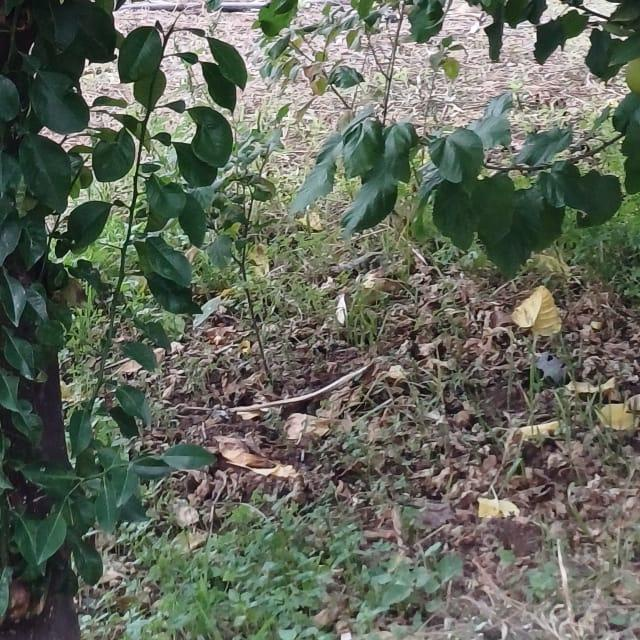orange: (624, 53, 640, 99)
